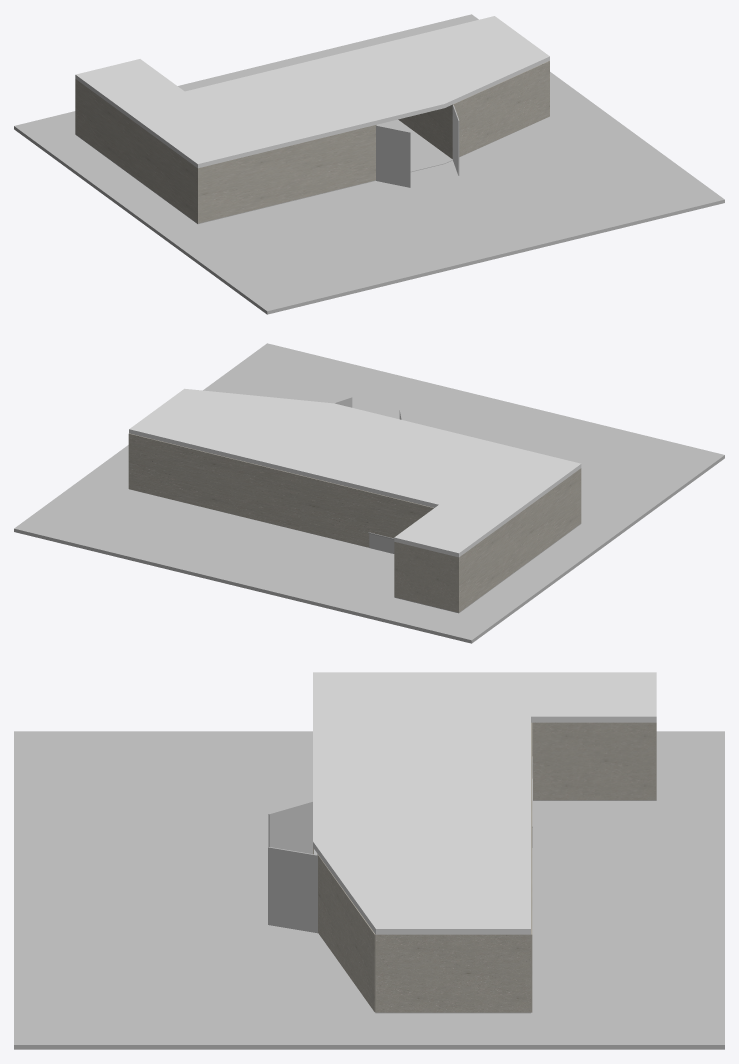
Rendered from Building0_7_FINAL.fbx.
The picture shows the model from 3 angles, top to bottom: view 1: azimuth 30°, elevation 25°; view 2: azimuth 150°, elevation 25°; view 3: azimuth 270°, elevation 25°; orthographic projection. The views are drawn at different scales.
Visible parts, largest first — view 1: Cube.002, Cube.003, Cube.009, Cube.010, Cube.015, Cube.007, Cube.004, Cube.016; view 2: Cube.002, Cube.003, Cube.013, Cube.010, Cube.011; view 3: Cube.002, Cube.003, Cube.014, Cube.012, Cube.015, Cube.006, Cube.007.
Part boxes in pixels (x1,y1,x2,y2): Cube.002: [14, 14, 724, 314]; Cube.003: [75, 16, 549, 168]; Cube.009: [197, 125, 376, 223]; Cube.010: [75, 79, 197, 222]; Cube.015: [453, 61, 549, 156]; Cube.007: [376, 125, 410, 187]; Cube.004: [75, 116, 549, 224]; Cube.016: [398, 104, 452, 158]; Cube.002: [14, 343, 724, 643]; Cube.003: [129, 388, 581, 557]; Cube.013: [128, 433, 433, 547]; Cube.010: [458, 468, 580, 612]; Cube.011: [394, 542, 458, 612]; Cube.002: [14, 731, 724, 1049]; Cube.003: [313, 672, 656, 934]; Cube.014: [375, 934, 530, 1012]; Cube.012: [532, 722, 655, 800]; Cube.015: [317, 854, 375, 1012]; Cube.006: [268, 847, 317, 933]; Cube.007: [268, 801, 312, 853].
Bounding box in the file's own units: 2583 × 344 × 2474.
